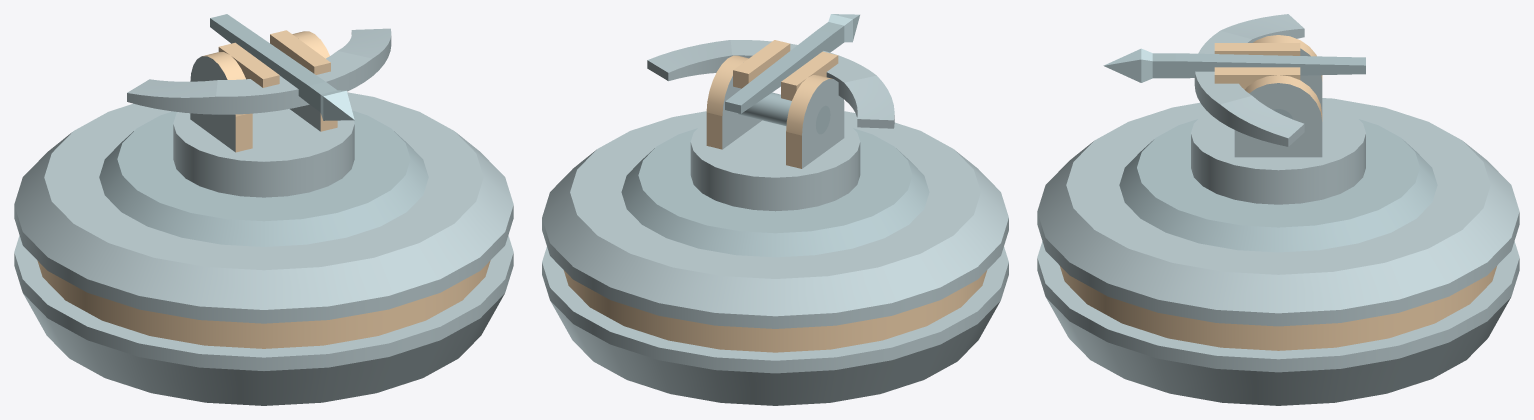
Rendered from Drilon_orange.fbx.
3 renders of one model, left to right at view 1: azimuth 30°, elevation 25°; view 2: azimuth 150°, elevation 25°; view 3: azimuth 270°, elevation 25°, orthographic. The views are drawn at different scales.
Visible parts, largest first — view 1: Orange_bottom, Orange_top, Orange_bow, Orange_arrow; view 2: Orange_bottom, Orange_top, Orange_bow, Orange_arrow; view 3: Orange_bottom, Orange_top, Orange_bow, Orange_arrow.
Part boxes in pixels (x1,y1,x2,y2): Orange_bottom: (14,92,513,405); Orange_top: (173,31,354,197); Orange_bow: (127,28,391,114); Orange_arrow: (210,14,354,120); Orange_bottom: (542,111,1008,405); Orange_top: (690,55,860,211); Orange_bow: (647,40,894,128); Orange_arrow: (725,14,859,113); Orange_bottom: (1037,98,1519,405); Orange_top: (1191,35,1365,204); Orange_bow: (1194,14,1304,146); Orange_arrow: (1103,48,1365,82).
Bounding box in the file's own units: 100 × 59.51 × 100.
